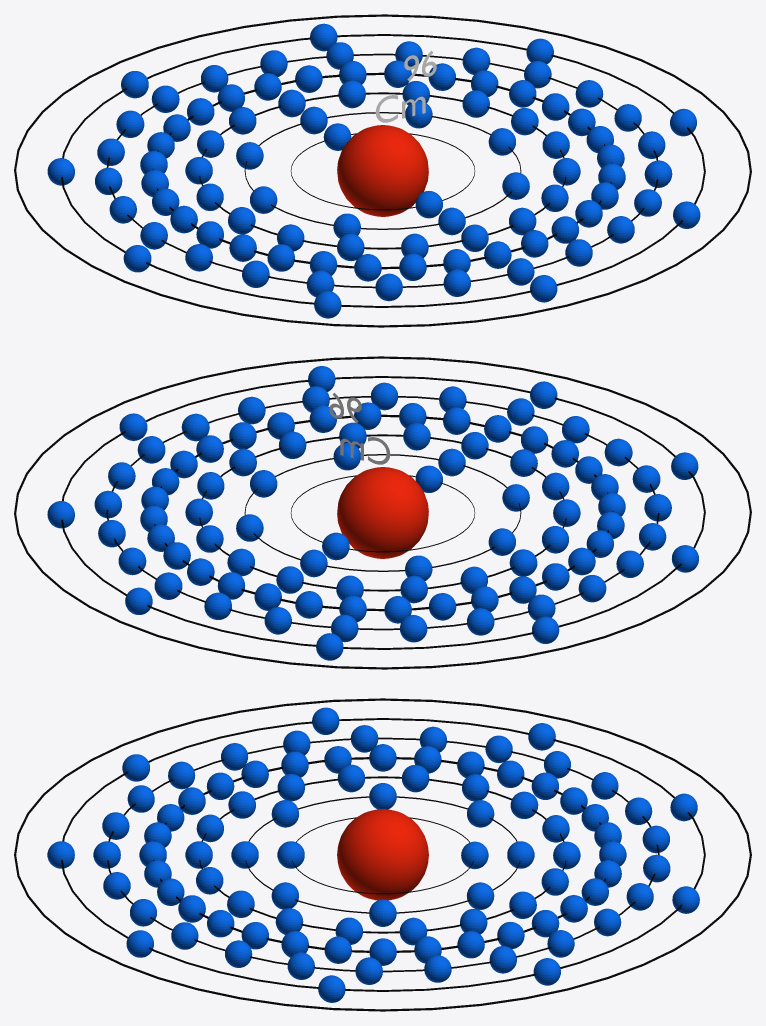
3 views of the same model, one above another, from view 1: azimuth 30°, elevation 25°; view 2: azimuth 150°, elevation 25°; view 3: azimuth 270°, elevation 25° (orthographic).
Visible parts, largest first — view 1: Cm4, Cm5, Cm3, Proton, Cm6, n7, Cm2, n6, n5, Cm1, n3, n4 (+1 smaller); view 2: Cm4, Cm5, Cm3, Proton, Cm6, n7, Cm2, n6, n5, Cm1, n3, n4 (+1 smaller); view 3: Cm4, Cm5, Cm3, Proton, Cm6, Cm2, n7, n6, n5, Cm1, n3, n4 (+2 smaller).
Boxes of the visible parts, bbox=[...] form: Cm4: bbox=[140, 60, 625, 281]; Cm5: bbox=[95, 41, 672, 301]; Cm3: bbox=[185, 80, 580, 261]; Proton: bbox=[337, 125, 428, 216]; Cm6: bbox=[47, 23, 700, 318]; n7: bbox=[14, 14, 751, 327]; Cm2: bbox=[236, 101, 529, 238]; n6: bbox=[61, 34, 705, 307]; n5: bbox=[106, 53, 658, 288]; Cm1: bbox=[323, 123, 442, 218]; n3: bbox=[199, 92, 566, 249]; n4: bbox=[152, 72, 611, 269]; Cm4: bbox=[140, 402, 625, 623]; Cm5: bbox=[94, 382, 671, 642]; Cm3: bbox=[185, 422, 580, 603]; Proton: bbox=[337, 467, 428, 558]; Cm6: bbox=[47, 366, 698, 660]; n7: bbox=[14, 356, 751, 669]; Cm2: bbox=[236, 443, 529, 580]; n6: bbox=[61, 376, 705, 649]; n5: bbox=[106, 396, 659, 630]; Cm1: bbox=[322, 465, 442, 560]; n3: bbox=[199, 434, 566, 591]; n4: bbox=[153, 414, 613, 611]; Cm4: bbox=[139, 744, 626, 965]; Cm5: bbox=[93, 725, 670, 984]; Cm3: bbox=[185, 764, 580, 945]; Proton: bbox=[337, 809, 428, 900]; Cm6: bbox=[47, 707, 699, 1002]; Cm2: bbox=[231, 783, 534, 926]; n7: bbox=[14, 698, 751, 1011]; n6: bbox=[61, 718, 705, 991]; n5: bbox=[107, 737, 659, 972]; Cm1: bbox=[277, 841, 488, 869]; n3: bbox=[199, 776, 566, 933]; n4: bbox=[153, 757, 612, 952].
Bounding box in the file's own units: 802 × 180 × 802.
